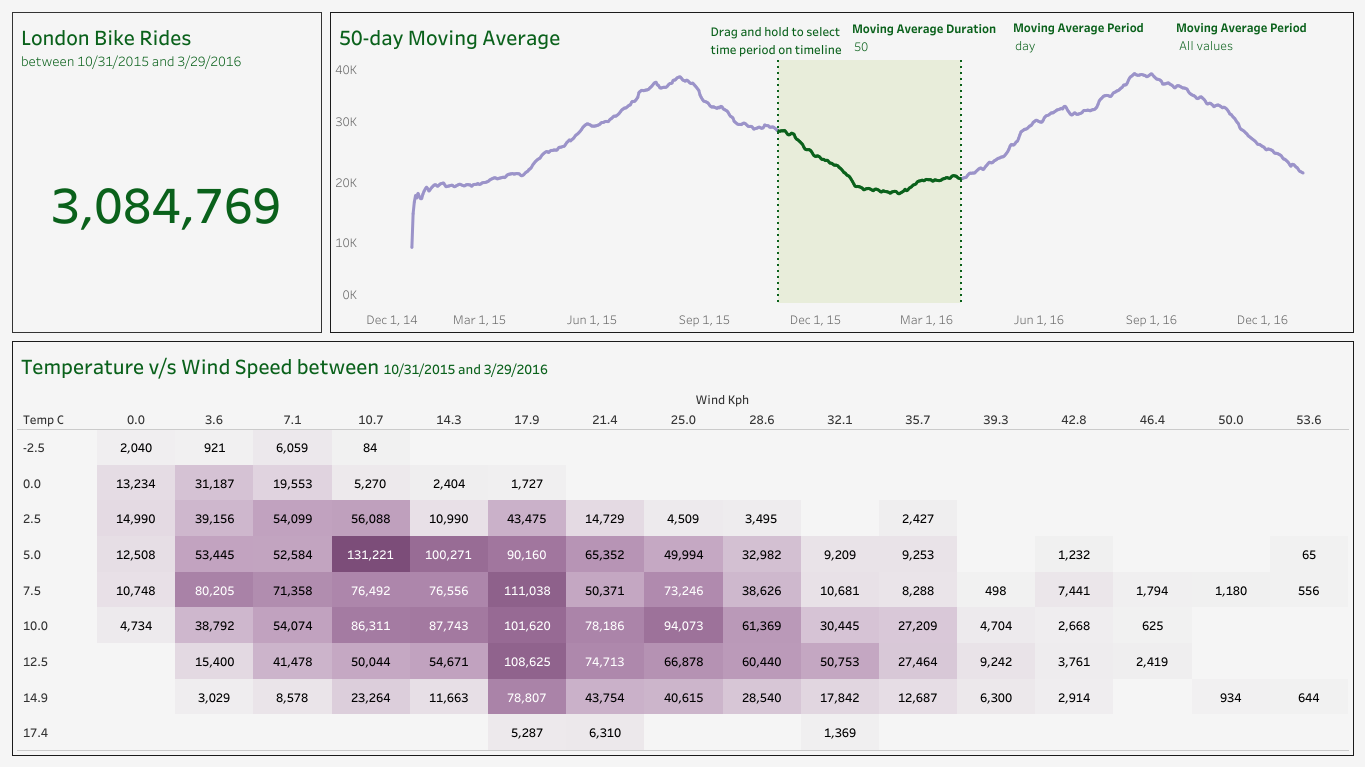

This screenshot's page, from the dashboard's own definition file:
{"tool":"tableau","page":{"name":"Dashboard 1","canvas":[1366,768],"ordinal":0},"visuals":[{"type":"worksheet","title":"TotalRides","mark":"Automatic","box":[8,8,318,329]},{"type":"worksheet","title":"MovingAverage","mark":"Automatic","rows":["Calculation1"],"cols":["Calculation_572238652660543488"],"box":[326,8,1032,329]},{"type":"parameter","param":"[Parameters].[Parameter 1]","box":[1013,17,160,47]},{"type":"filter","title":"MovingAverage","param":"[federated.018lhls12czmn1136pijf17hryr8].[none:Calculation_572238652660543488:qk","box":[1176,17,170,58]},{"type":"parameter","param":"[Parameters].[Parameter 2]","box":[852,18,160,46]},{"type":"text","box":[708,19,138,42]},{"type":"worksheet","title":"Heatmap","mark":"Square","rows":["temp real C (bin)"],"cols":["Wind Speed Kph (bin)"],"box":[8,337,1350,423]}]}

Visuals, with their boxes in screenshot pixels (x1, y1, x2, y2), scaled from the page's 1366x768 canvas onto the 1365x767 screenshot:
"TotalRides" worksheet: l=8, t=8, r=326, b=337
"MovingAverage" worksheet: l=326, t=8, r=1357, b=337
parameter: l=1012, t=17, r=1172, b=64
"MovingAverage" filter: l=1175, t=17, r=1345, b=75
parameter: l=851, t=18, r=1011, b=64
text: l=707, t=19, r=845, b=61
"Heatmap" worksheet (Square marks): l=8, t=337, r=1357, b=759
